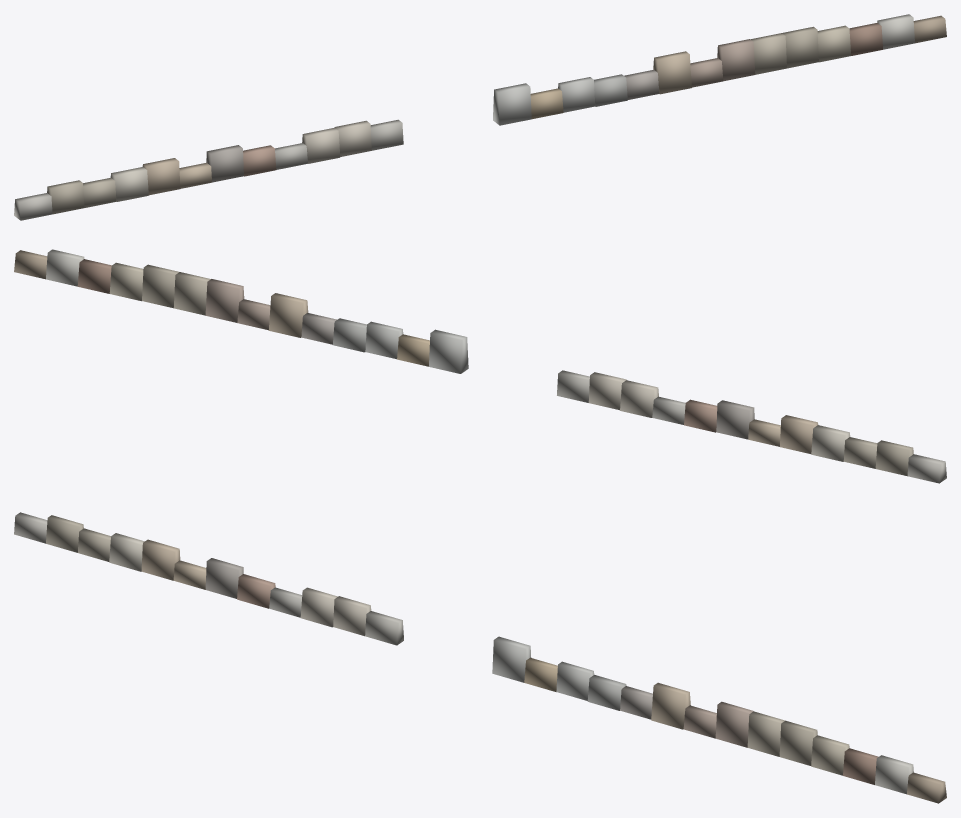
File: farm_18_21_collision.glb
The picture shows the model from 3 angles, top to bottom: view 1: azimuth 30°, elevation 25°; view 2: azimuth 150°, elevation 25°; view 3: azimuth 330°, elevation 25°; orthographic projection. The views are drawn at different scales.
Parts seen in each view (by area): view 1: geometry_0; view 2: geometry_0; view 3: geometry_0.
Boxes of the visible parts, x1,y1,x2,y2 form: geometry_0: (14, 14, 946, 220); geometry_0: (14, 249, 946, 483); geometry_0: (14, 512, 946, 803).
Size of the model in its own units: 45.82 by 2.44 by 1.9.
